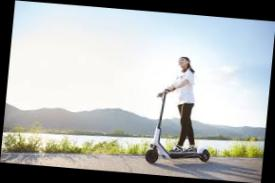nonhelmet: (141, 53, 222, 170)
